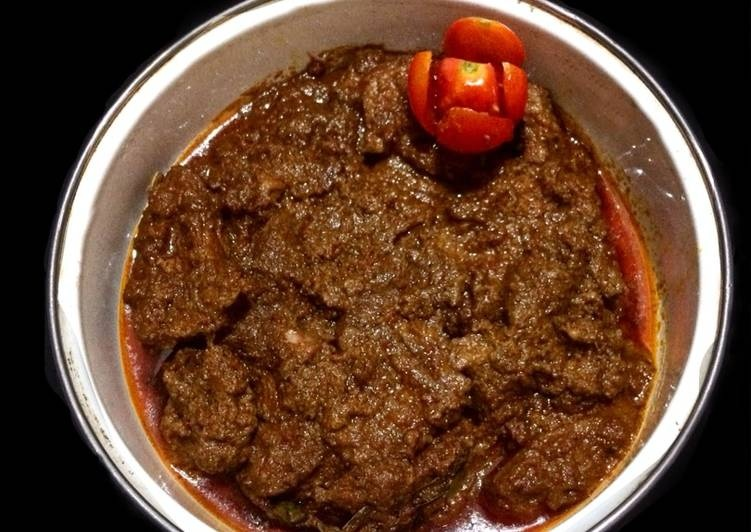Rendang: (129, 48, 645, 532)
